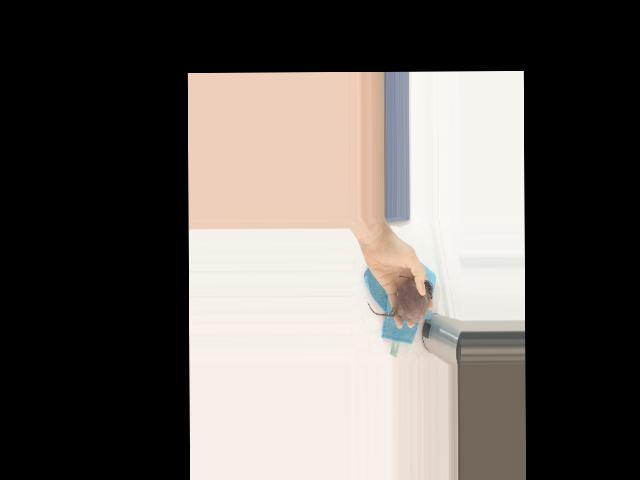beet: (367, 276, 433, 323)
